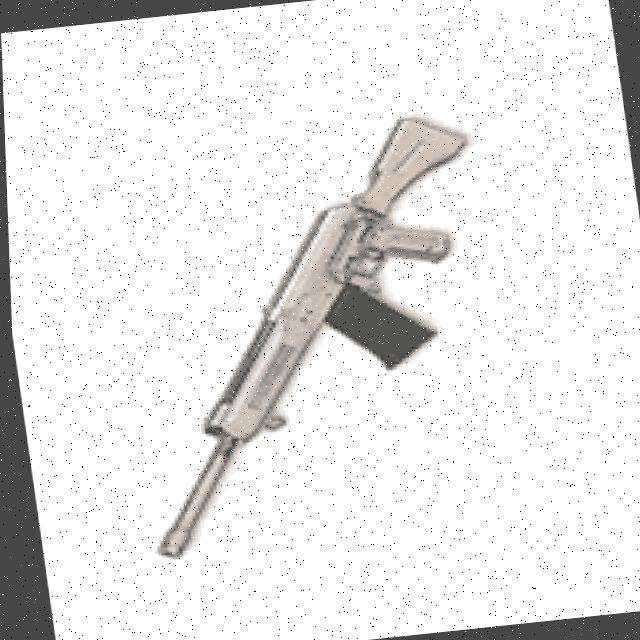firearm: (96, 110, 514, 560)
